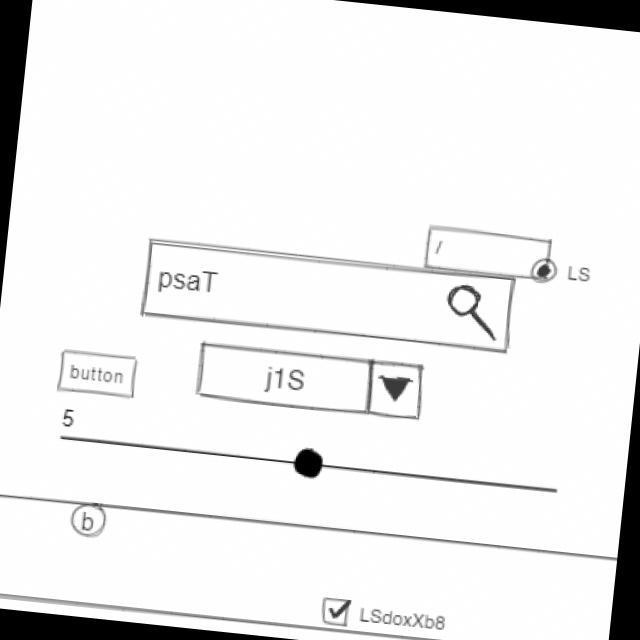button: (54, 347, 141, 402)
checkbox: (317, 595, 450, 639)
container: (1, 488, 618, 640)
icon-button: (66, 502, 110, 542)
input: (422, 222, 556, 285)
radio: (527, 255, 596, 291)
search: (136, 234, 520, 359)
select: (192, 340, 431, 425)
slider: (78, 421, 564, 509)
